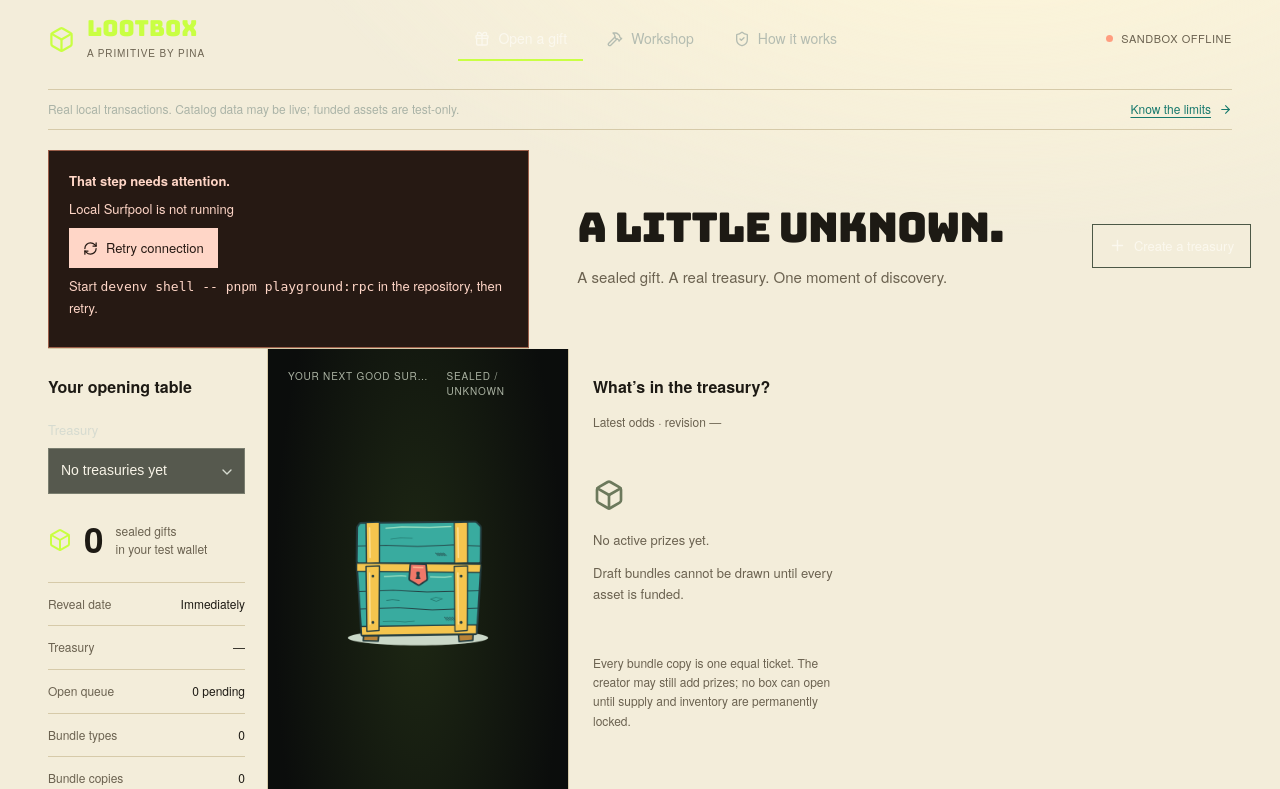
Test: lootbox playground › keeps inventory semantics and production risks visible
The image size is (1280, 789).
Expected: the message is shown, [48,150,529,348]
Click the button "How it works": click(785, 39) [718,17,853,61]
(page scrolled)
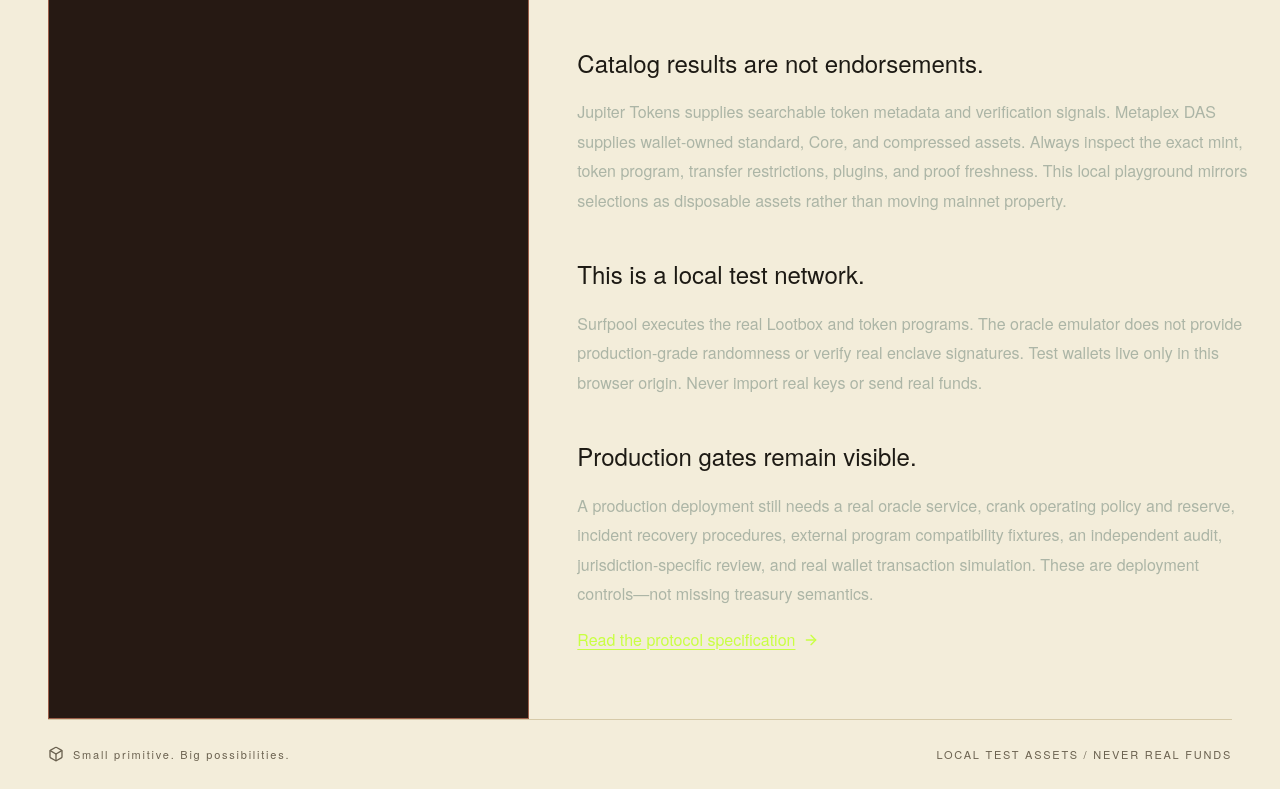
Expected: the text "independent audit" is shown, [577,494,1235,605]
